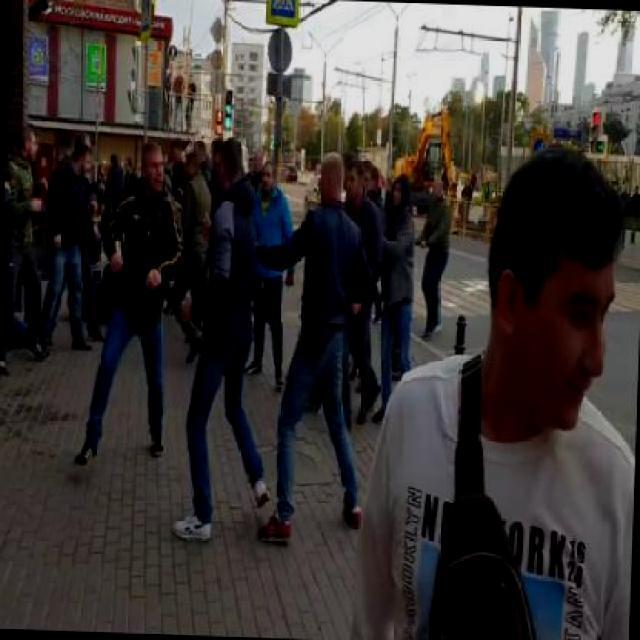non-fight: (248, 150, 380, 542)
